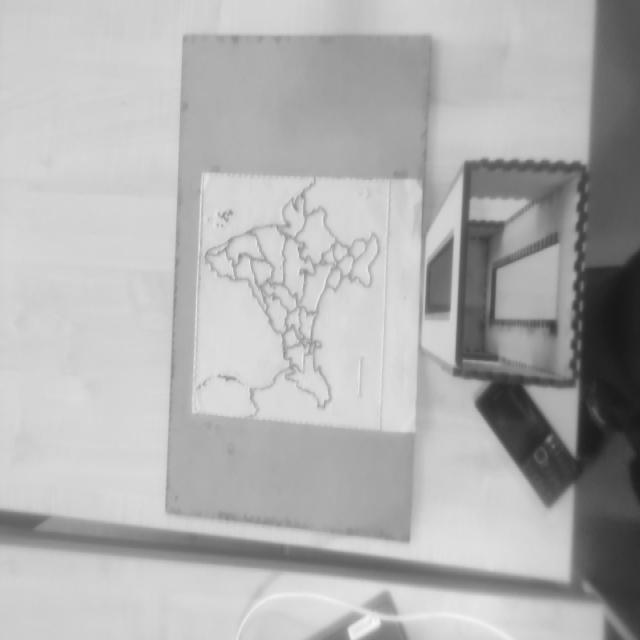map: (192, 173, 390, 430)
